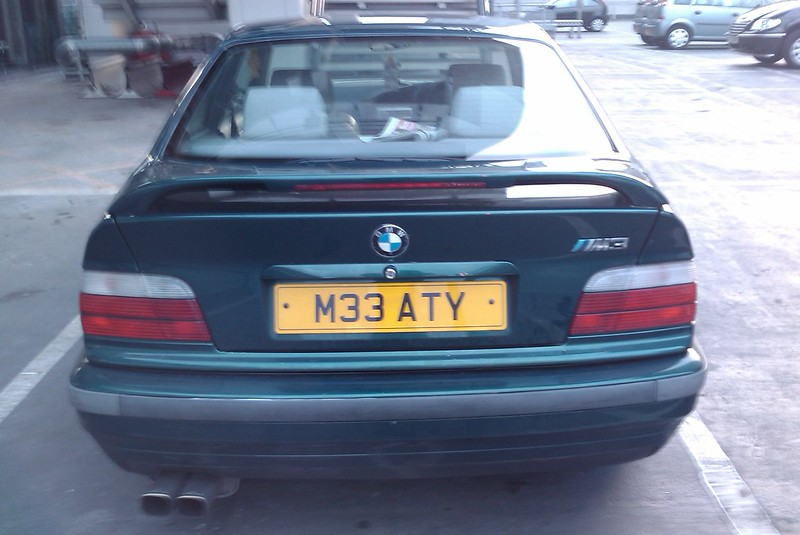number_plate: (262, 273, 522, 338)
